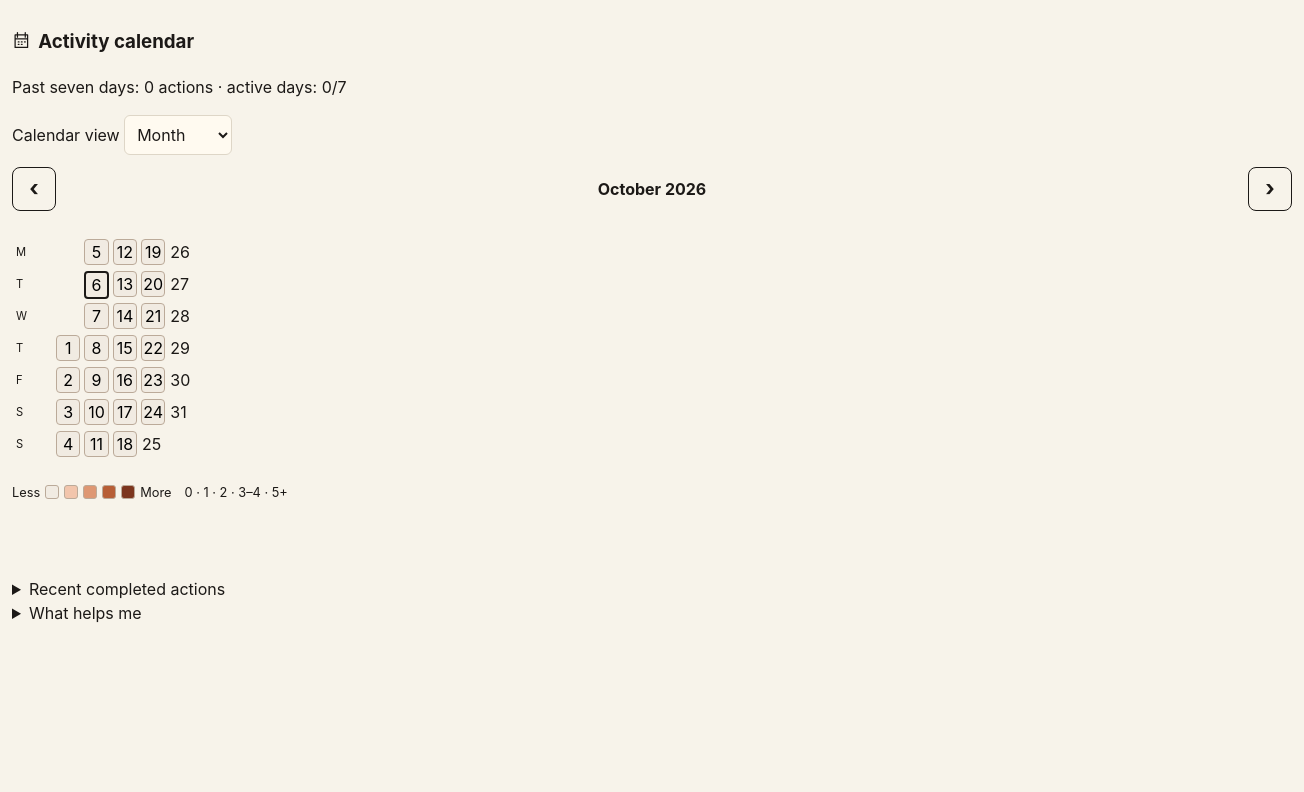
Test: switches ranges, limits future navigation and returns to recent history in en
Select "Year" in the dropdown labelled "Calendar view" at (178, 135), box [124,115,232,155]
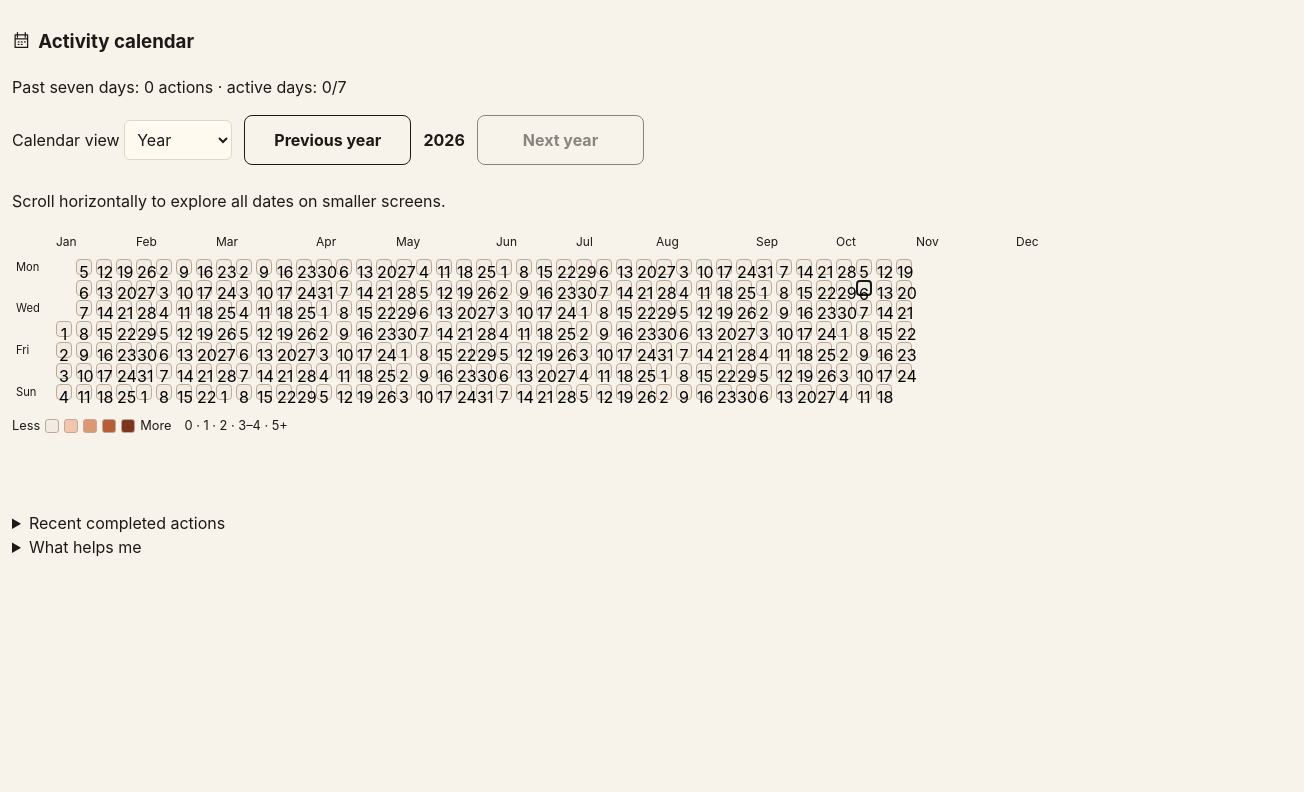
expect the button "Next year" is disabled: met, box [477,115,644,165]
Click the button "Previous year" at (328, 140), box [244,115,411,165]
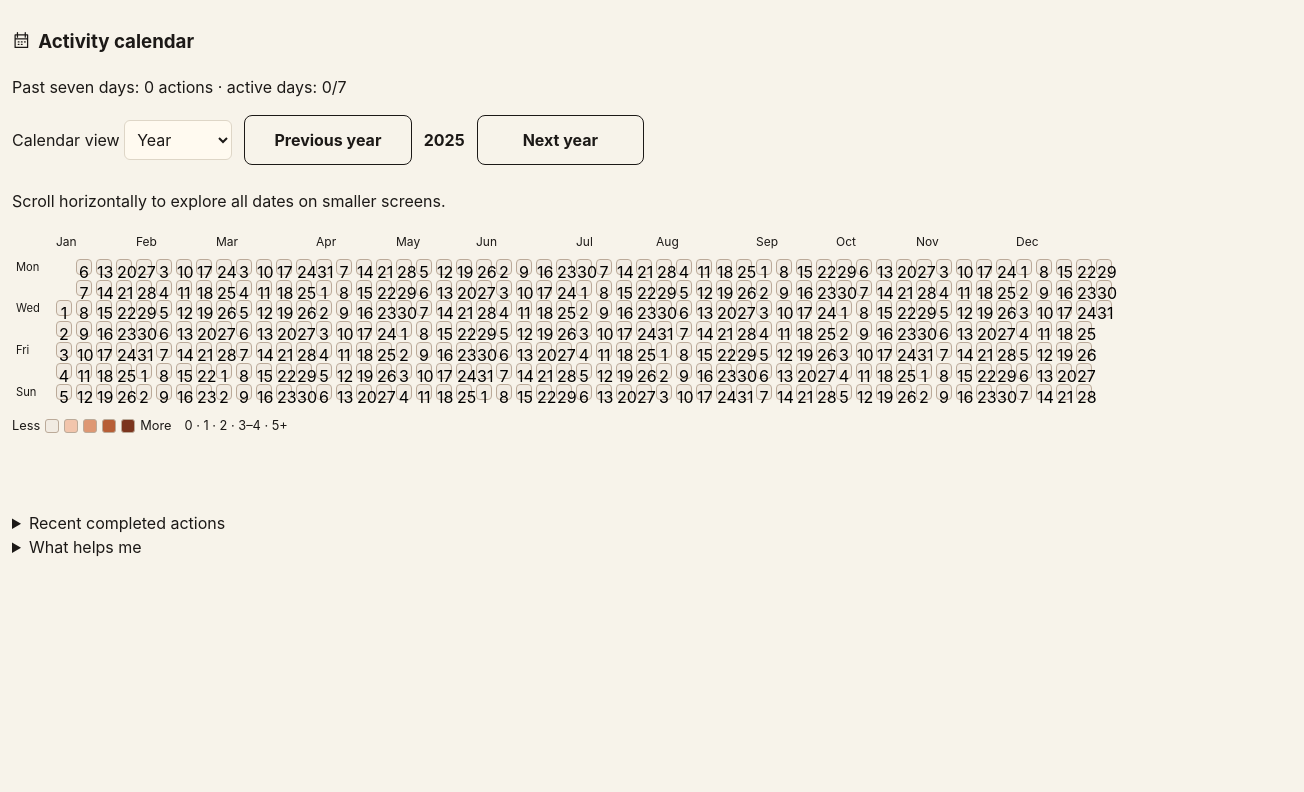
expect the button "Next year" is enabled: met, box [477,115,644,165]
Click the 5th button "1" at (64, 308), box [56,300,72,316]
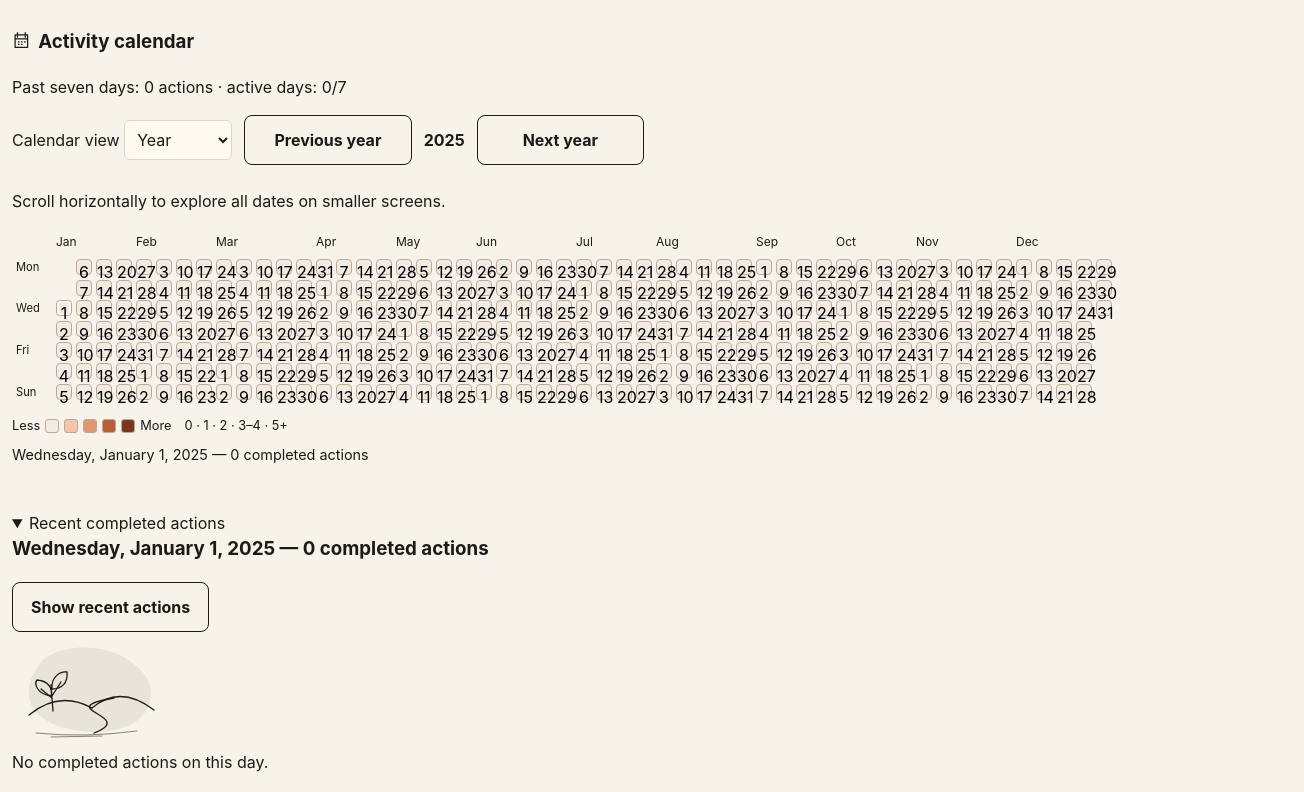
expect the button "Show recent actions" is shown: met, box [12,582,209,632]
Select "12 weeks" in the dropdown labelled "Calendar view" at (178, 140), box [124,120,232,160]
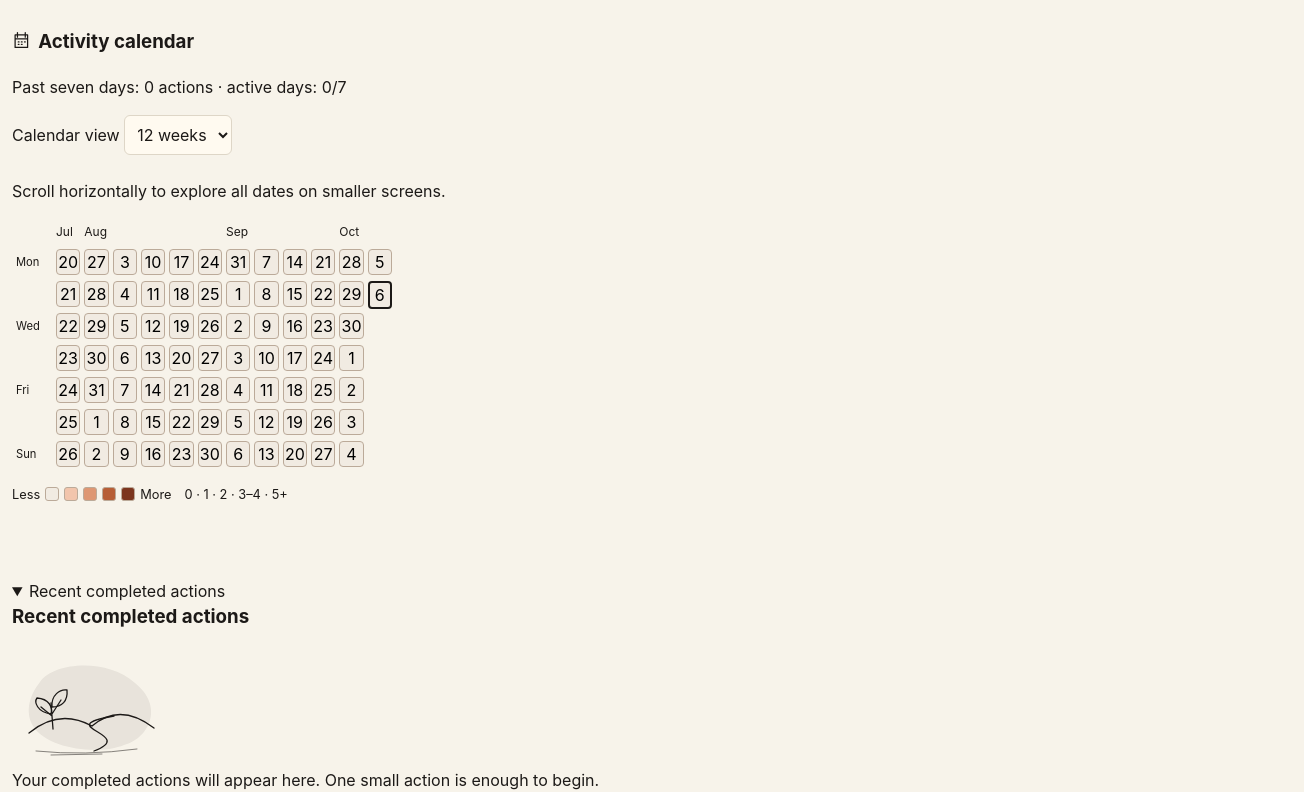
expect the element named "Activity calendar" is shown: met, box [56,249,392,469]
expect the button "Show recent actions" is gone: met
